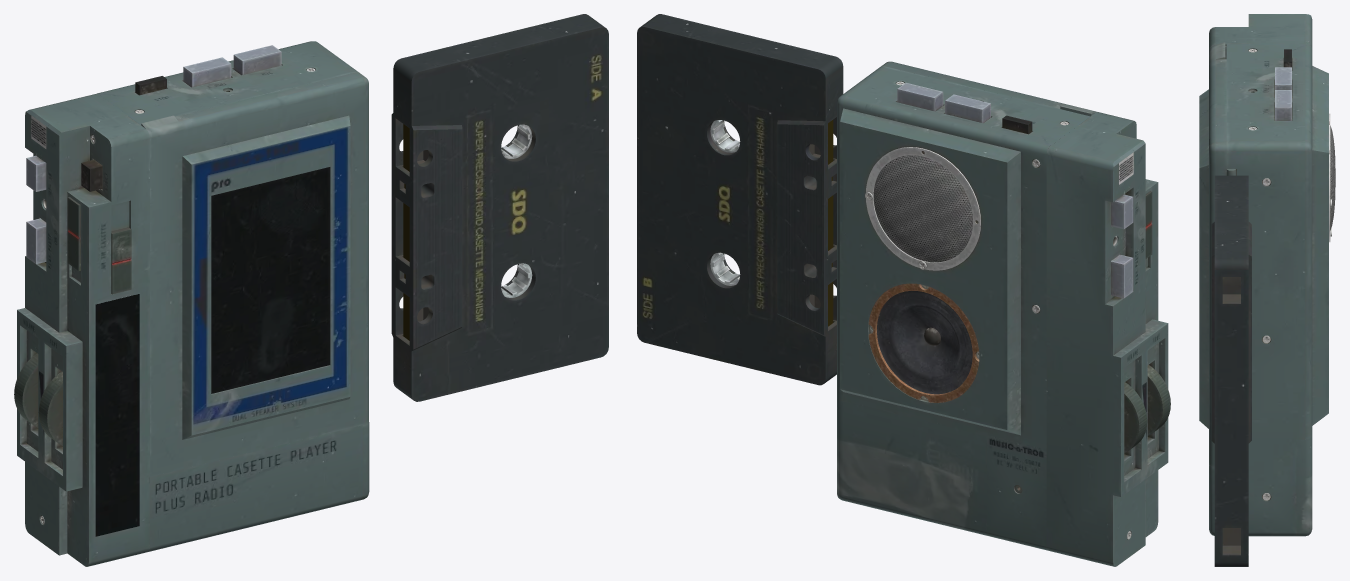
Rendered from portable_cassette_player.glb.
The picture shows the model from 3 angles, left to right: view 1: azimuth 30°, elevation 25°; view 2: azimuth 150°, elevation 25°; view 3: azimuth 270°, elevation 25°; orthographic projection. The views are drawn at different scales.
Parts seen in each view (by area): view 1: portable_cassette_player, portable_cassette_player_lid, portable_cassette_player_casette; view 2: portable_cassette_player, portable_cassette_player_casette, portable_cassette_player_lid; view 3: portable_cassette_player, portable_cassette_player_casette, portable_cassette_player_lid.
Boxes of the visible parts, box(x1,y1,x2,y2) form: portable_cassette_player: box(14, 41, 369, 566); portable_cassette_player_lid: box(141, 72, 368, 476); portable_cassette_player_casette: box(391, 14, 608, 401); portable_cassette_player: box(837, 66, 1170, 566); portable_cassette_player_casette: box(637, 14, 843, 385); portable_cassette_player_lid: box(881, 61, 1096, 116); portable_cassette_player: box(1209, 14, 1335, 536); portable_cassette_player_casette: box(1211, 175, 1251, 566); portable_cassette_player_lid: box(1199, 42, 1235, 466).
Bounding box in the file's own units: 0.1723 × 0.1303 × 0.0397.
2 materials, 2 textured.
